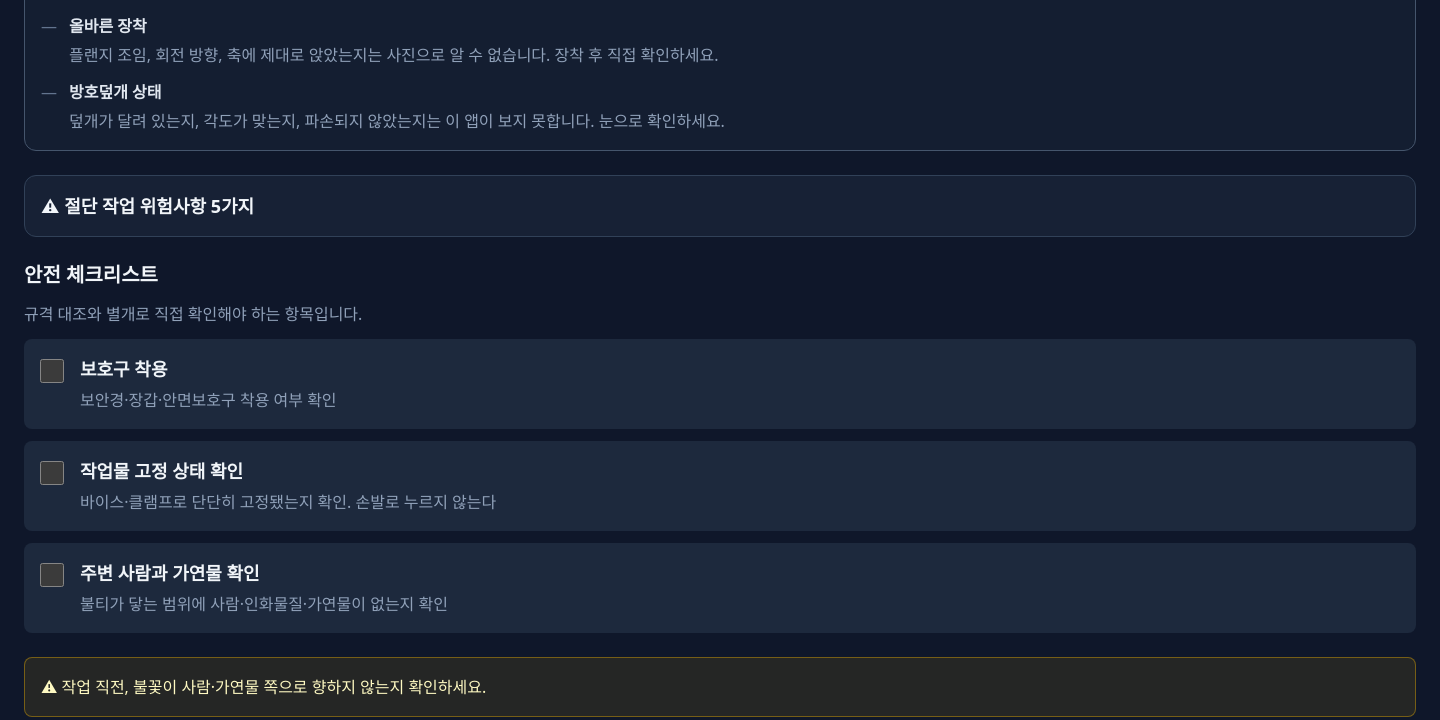
Test: 결과 화면 — 시험운전 절차 › 타이머가 남아 있으면 완료 버튼이 잠겨 있다
(page scrolled)
Click the checkbox labelled "보호구 착용 보안경·장갑·안면보호구 착용 여부 확인" at (52, 371), box [40,359,64,383]
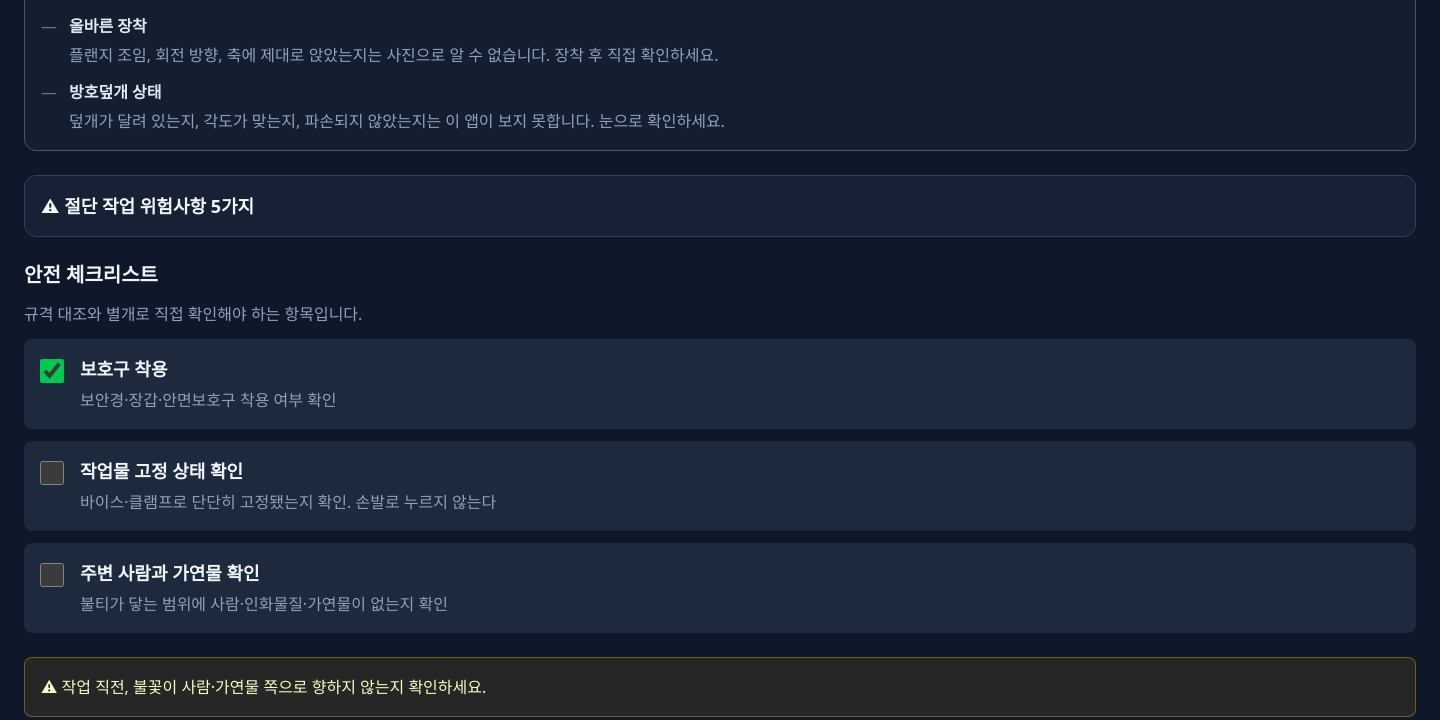
Click the checkbox labelled "작업물 고정 상태 확인 바이스·클램프로 단단히 고정됐는지 확인. 손발로 누르지 않는다" at (52, 473), box [40,461,64,485]
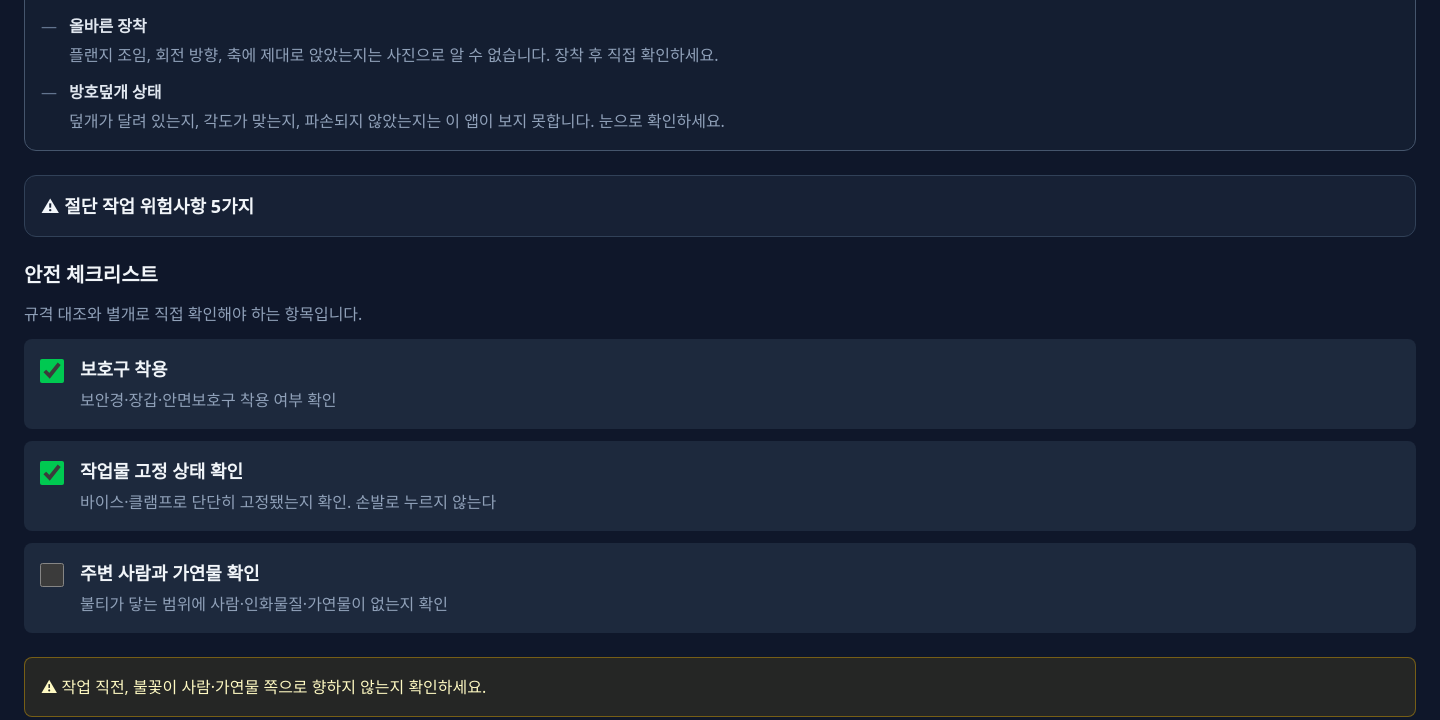
Click the checkbox labelled "주변 사람과 가연물 확인 불티가 닿는 범위에 사람·인화물질·가연물이 없는지 확인" at (52, 575), box [40,563,64,587]
(page scrolled)
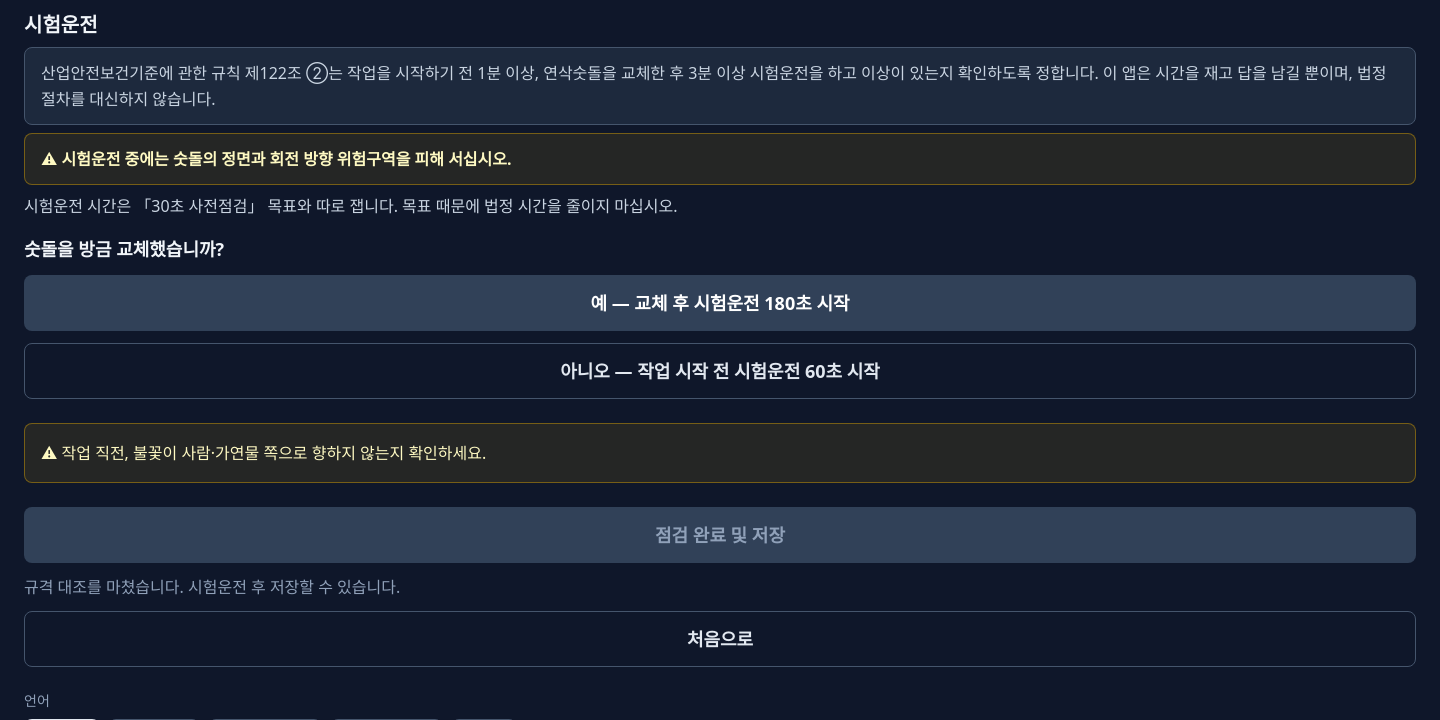
Click the button "아니오 — 작업 시작 전 시험운전 60초 시작" at (720, 371), box [24,343,1416,399]
(page scrolled)
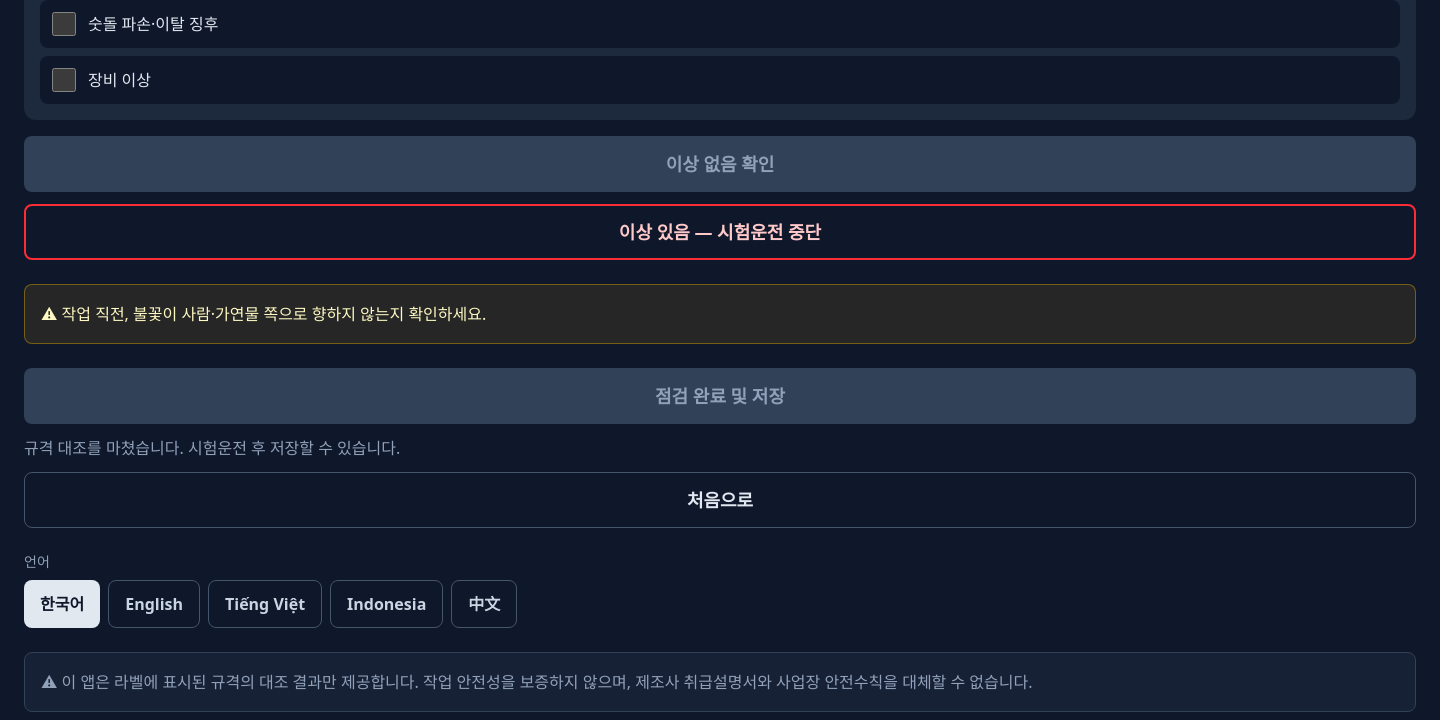
Check: the button "점검 완료 및 저장" is disabled, box [24,368,1416,424]
Check: the button "이상 있음 — 시험운전 중단" is enabled, box [24,204,1416,260]
Check: the button "이상 없음 확인" is disabled, box [24,136,1416,192]
